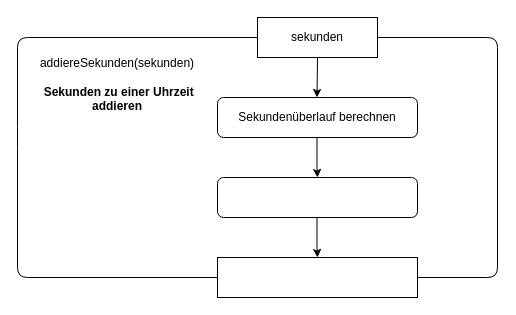
Image size: 516x315. Some labels were removed from this diagram. The centre of each missing label's shape, as x and y in pixels:
"Minutenüberlauf berechnen" belongs at [317,197].
"neue Uhrzeit erzeugen und zurückgeben" belongs at [317,277].
